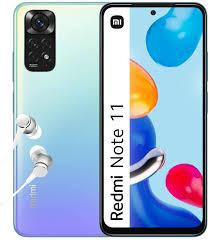Smartphone: (101, 5, 206, 230), (17, 10, 105, 234)
